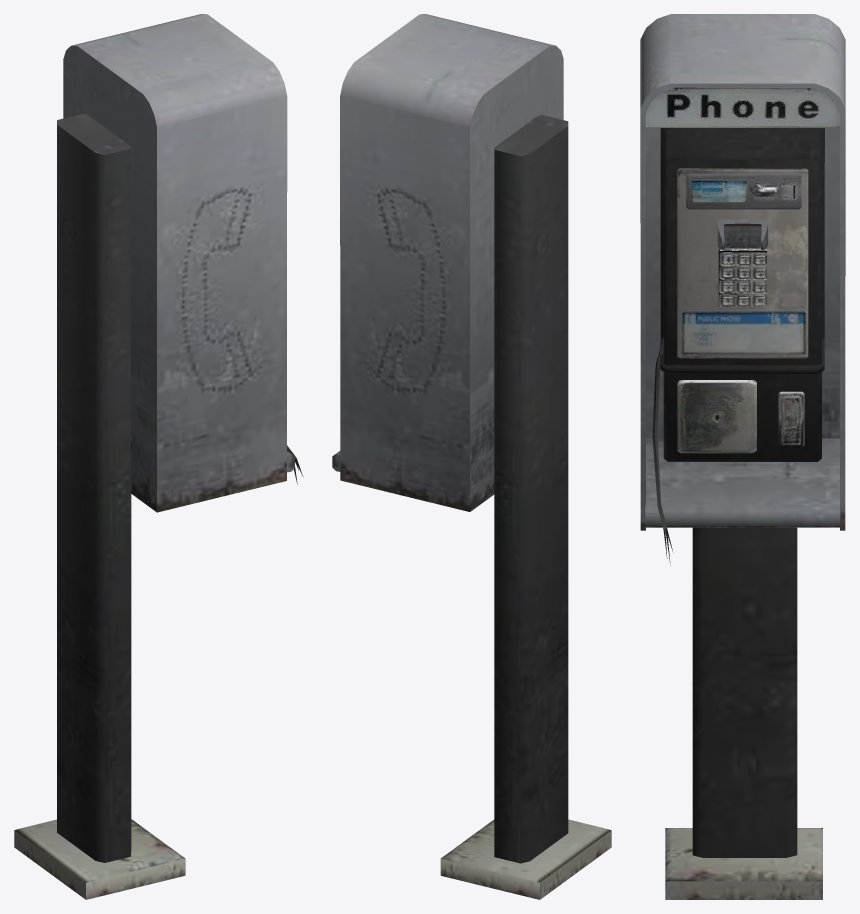
The model's file is payphone001a.glb.
The picture shows the model from 3 angles, left to right: view 1: azimuth 30°, elevation 25°; view 2: azimuth 150°, elevation 25°; view 3: azimuth 270°, elevation 25°; orthographic projection. The views are drawn at different scales.
Visible parts, largest first — view 1: 0_lobby_fixtures002a; view 2: 0_lobby_fixtures002a; view 3: 0_lobby_fixtures002a.
Part boxes in pixels (x1,y1,x2,y2): 0_lobby_fixtures002a: (14,14,303,899); 0_lobby_fixtures002a: (332,14,611,899); 0_lobby_fixtures002a: (640,14,845,899).
Size of the model in its own units: 0.533 by 1.84 by 0.3953.
Materials: 1 (1 with a texture image).
